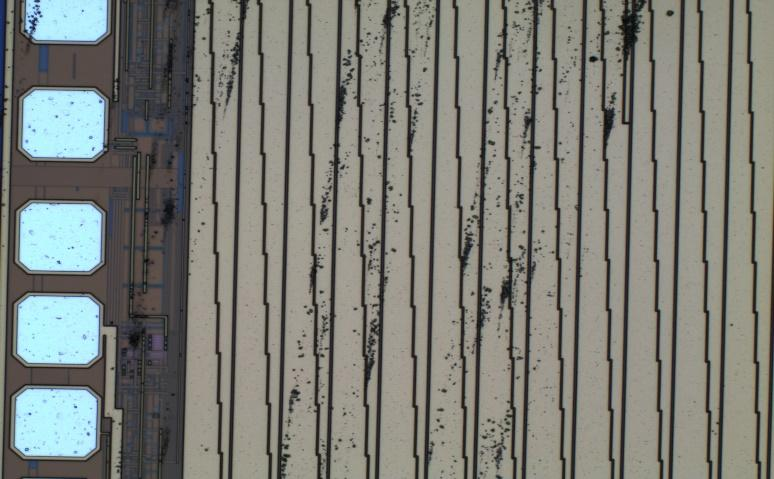SCRATCH: (2, 1, 654, 479)
